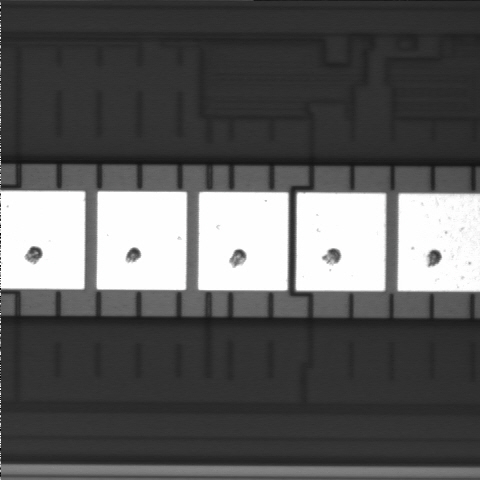pad: (97, 191, 187, 290), (198, 192, 288, 290), (296, 193, 386, 291)
